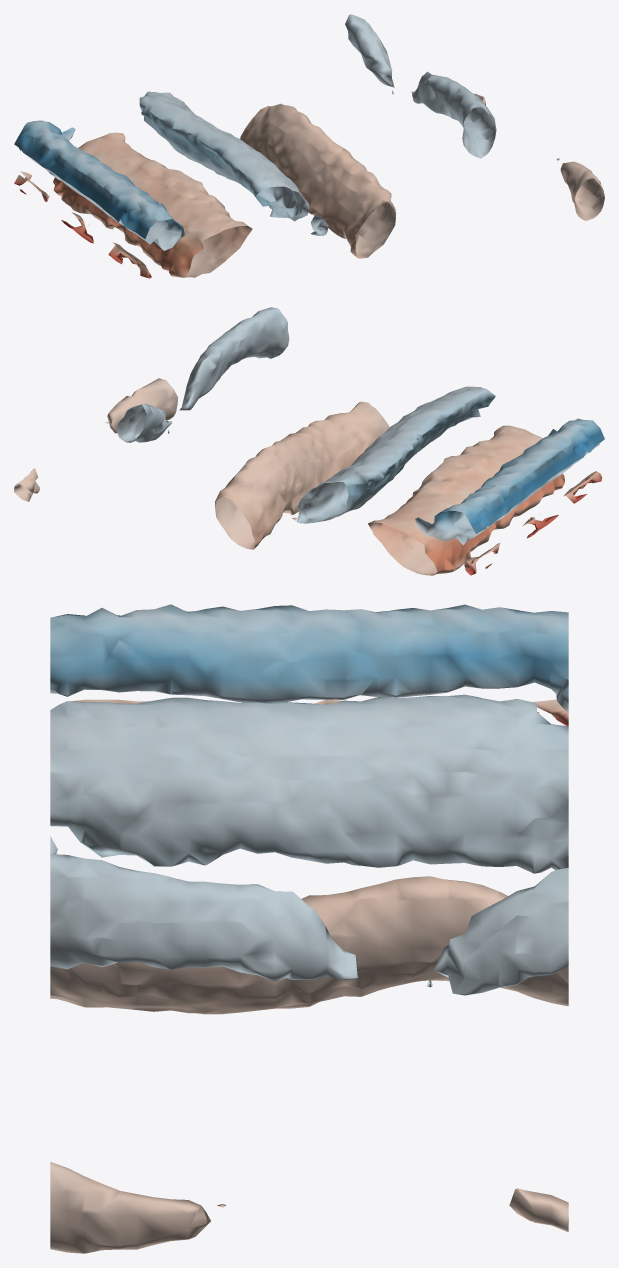
The picture shows the model from 3 angles, top to bottom: view 1: azimuth 30°, elevation 25°; view 2: azimuth 150°, elevation 25°; view 3: azimuth 270°, elevation 25°; orthographic projection. The views are drawn at different scales.
Size of the model in its own units: 5.2 by 1.51 by 2.5.
